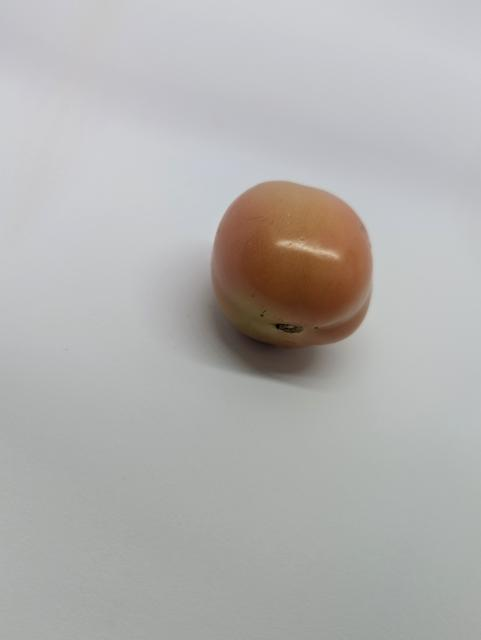turning: (208, 171, 380, 356)
